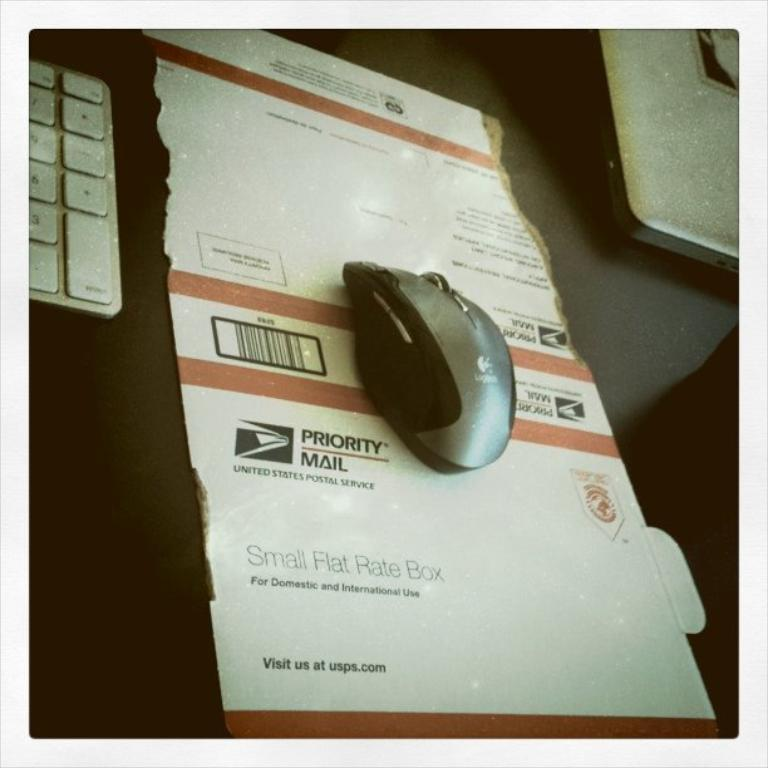Computer-mouse: (348, 256, 515, 477)
